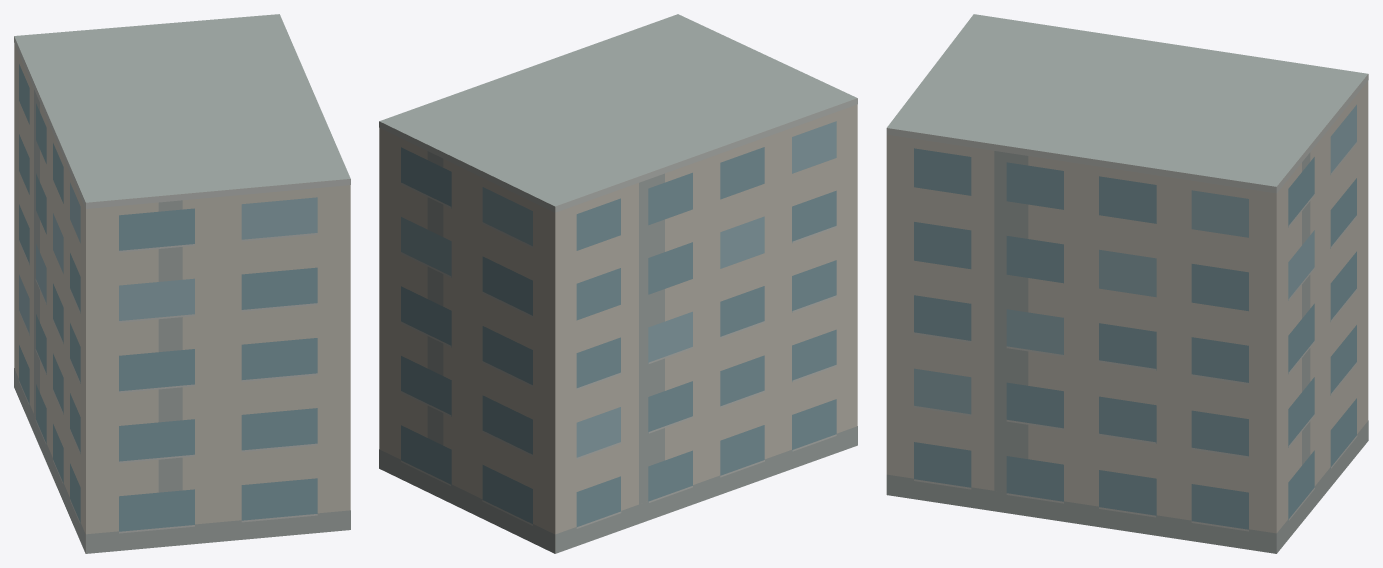
File: survey-upis-32893668.glb
The picture shows the model from 3 angles, left to right: view 1: azimuth 30°, elevation 25°; view 2: azimuth 150°, elevation 25°; view 3: azimuth 270°, elevation 25°; orthographic projection. The views are drawn at different scales.
Visible parts, largest first — view 1: survey-upis-32893668.tmp; view 2: survey-upis-32893668.tmp; view 3: survey-upis-32893668.tmp.
Part boxes in pixels (box(x1,y1,x2,y2)): survey-upis-32893668.tmp: box(14, 14, 350, 553); survey-upis-32893668.tmp: box(379, 14, 857, 553); survey-upis-32893668.tmp: box(886, 14, 1368, 553).
Size of the model in its own units: 13.59 by 13.45 by 16.01.
